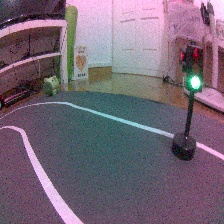green: (169, 40, 206, 165)
